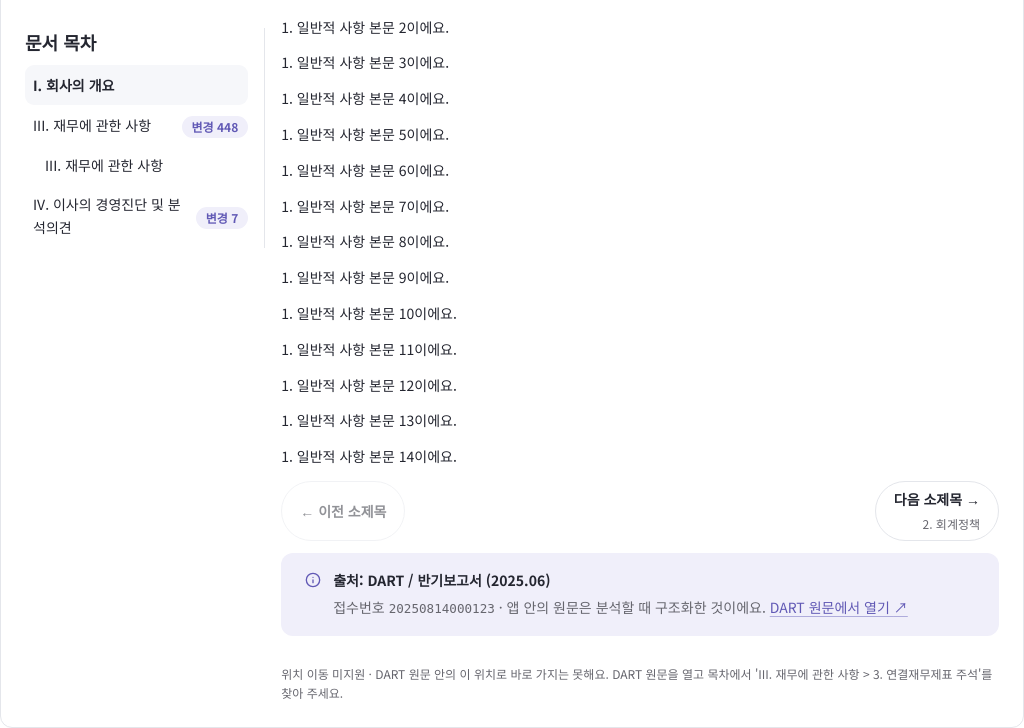
Scenario: 원문 확인 긴 항목(#396) › 번호 소제목이 이어지는 긴 항목은 소제목 하나씩 보이고, 고르기와 이전·다음으로 넘긴다
(page scrolled)
Expected: the text "2. 회계정책 본문 0이에요." is not shown
Click the button "다음 소제목 → 2. 회계정책" at (937, 511), box [875, 481, 999, 541]
(page scrolled)
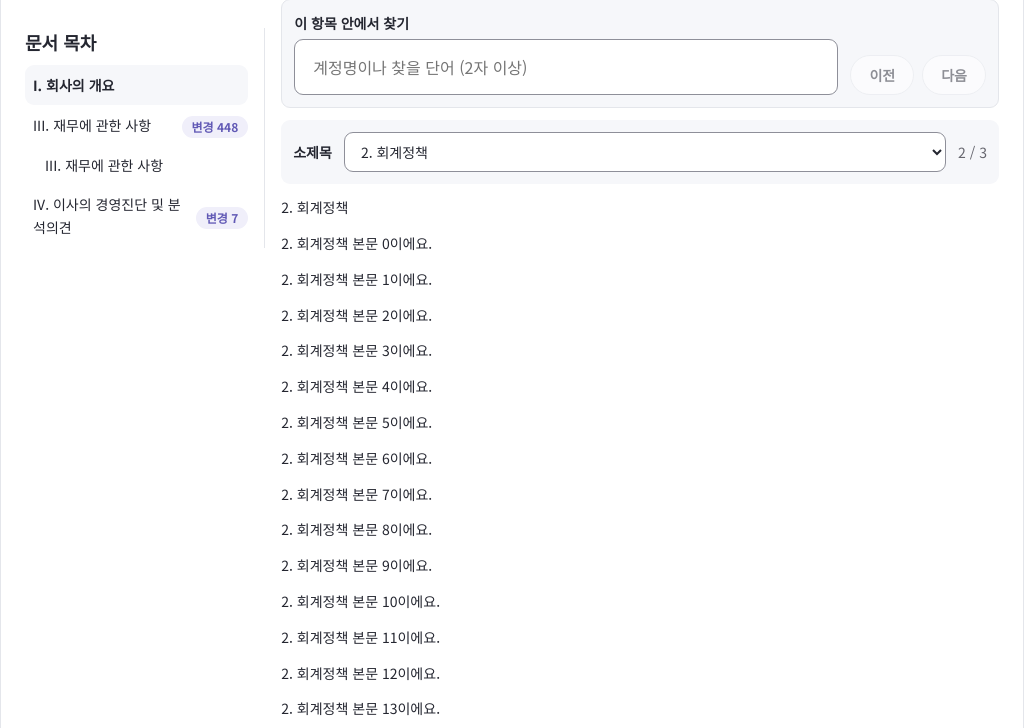
Expected: the text "2. 회계정책 본문 0이에요." is shown, [281, 233, 432, 253]
Select "3. 추정" in the dropdown labelled "소제목" at (645, 152), box [344, 132, 946, 172]
(page scrolled)
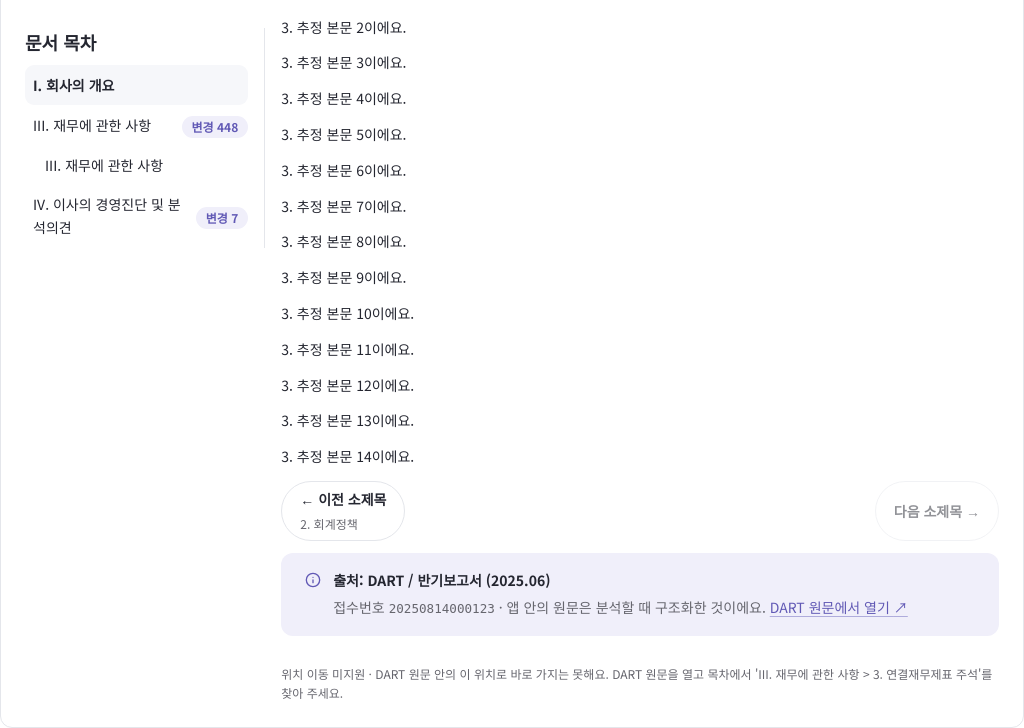
Expected: the button "다음 소제목 →" is disabled, [875, 481, 999, 541]
